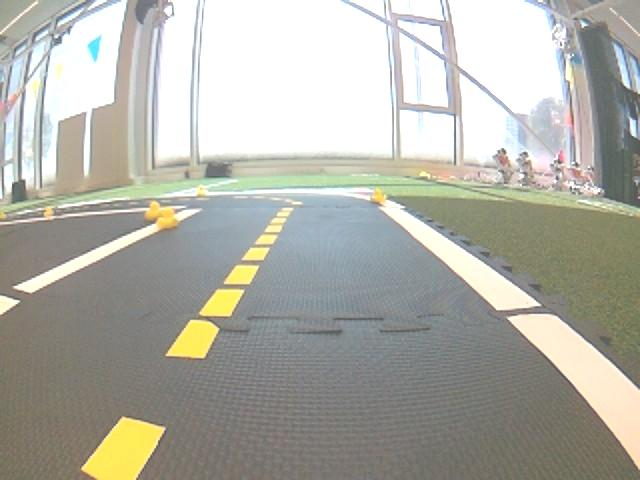Duckies: (154, 207, 179, 226), (149, 203, 173, 221), (145, 201, 166, 218), (372, 189, 388, 202), (42, 208, 53, 217), (196, 187, 208, 195), (1, 209, 8, 218), (0, 211, 6, 220)
